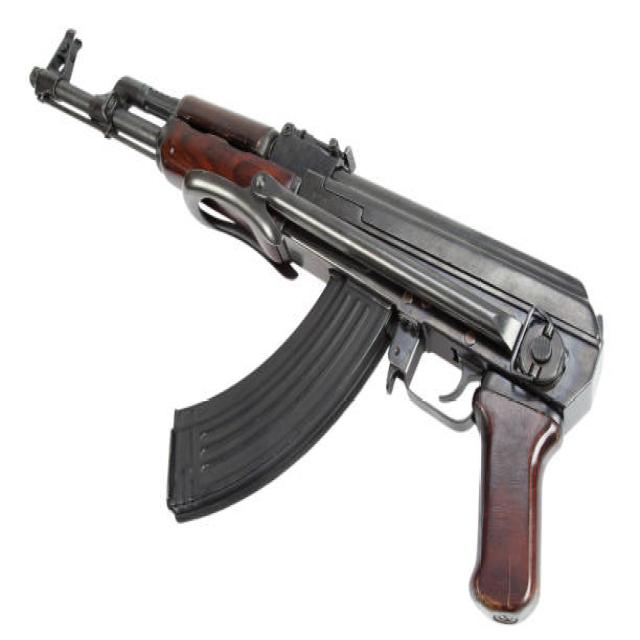rifle: (26, 18, 613, 638)
